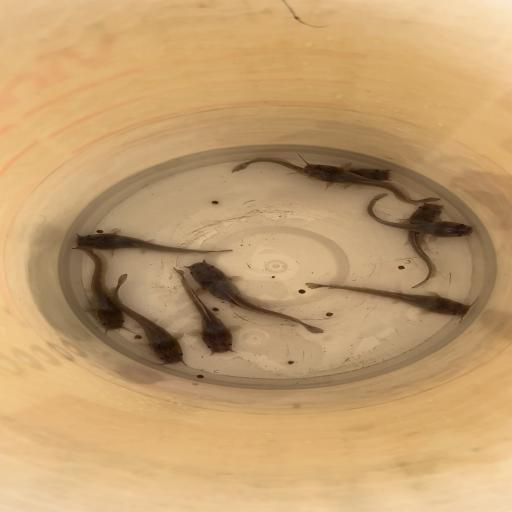lele: (184, 258, 325, 334), (303, 279, 476, 321), (110, 274, 185, 367), (296, 162, 446, 206), (171, 266, 238, 357), (366, 192, 476, 238), (71, 244, 127, 334), (396, 201, 446, 291), (230, 156, 393, 183), (73, 232, 234, 256)
